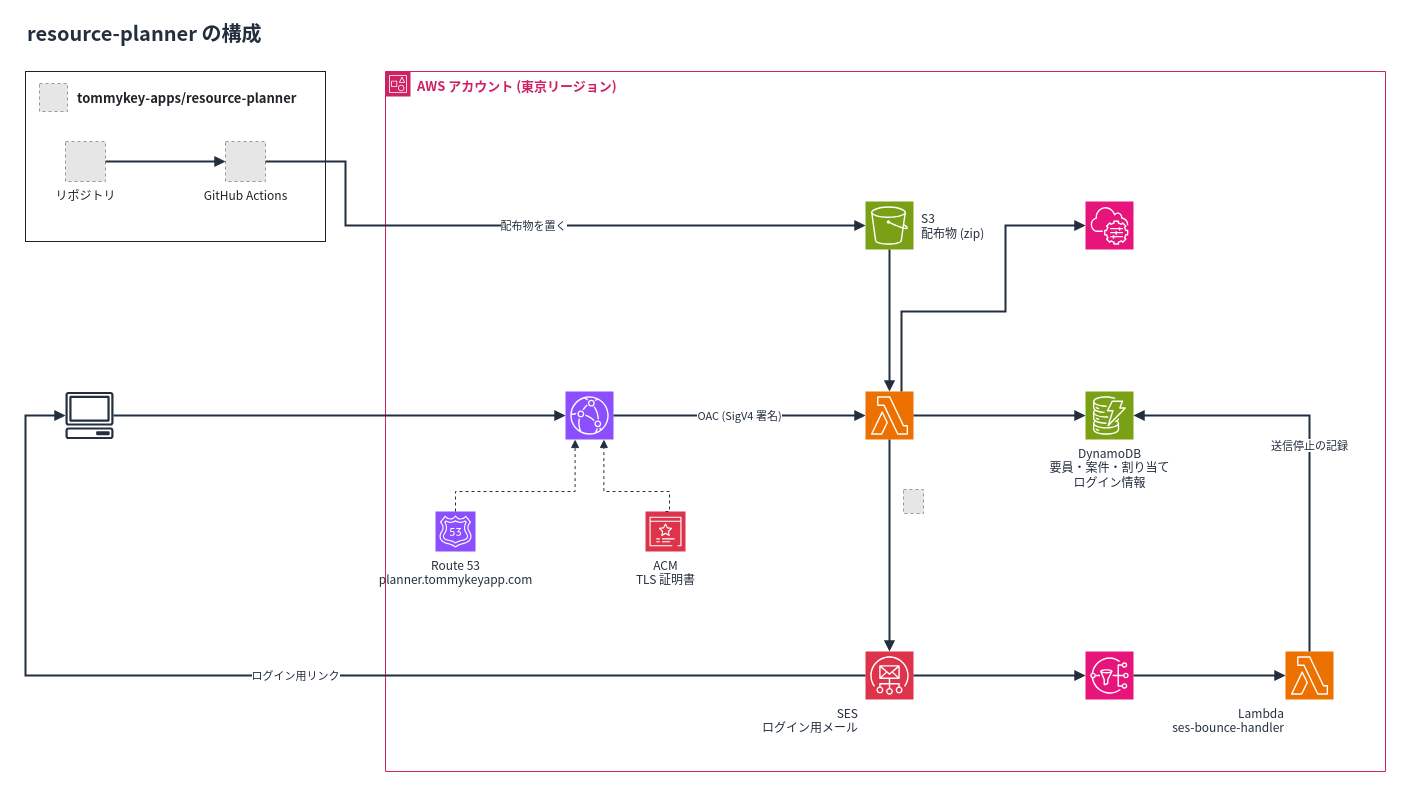
Some shapes in this 1403 by 789 pixel diagram are drawn without their labels. Grey dashed boxes stand in for pictures. Here are the shapes that lost their labels. From the top down, the centre of each, then its label:
At point 1109,225: "Systems Manager Parameter Store AUTH_SECRET".
At point 89,415: "ブラウザ 利用者".
At point 589,415: "CloudFront".
At point 889,415: "Lambda Web Function resource-planner SvelteKit (Node.js 24)".
At point 1109,675: "SNS 不達・苦情の通知".
